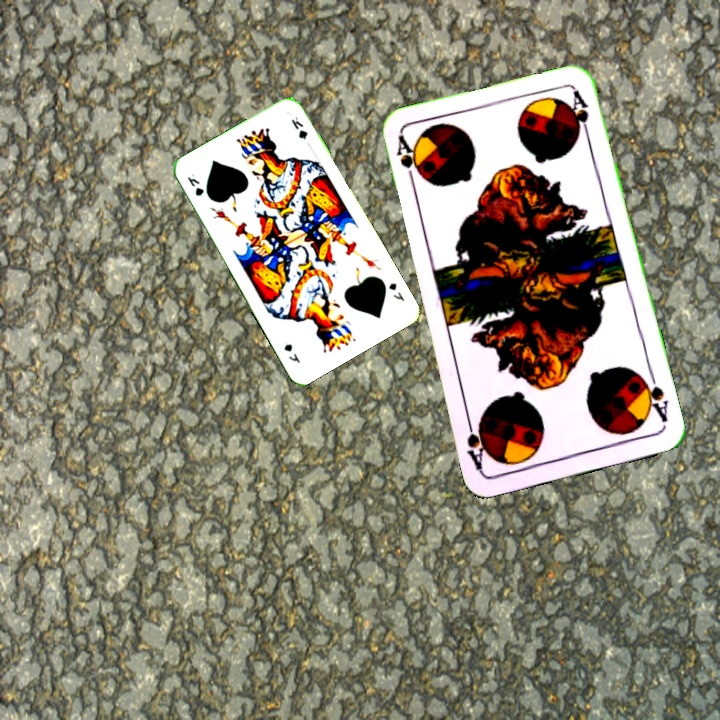GK: (183, 173, 207, 199), (384, 279, 407, 304)
SA: (636, 368, 671, 425), (392, 132, 421, 191)
